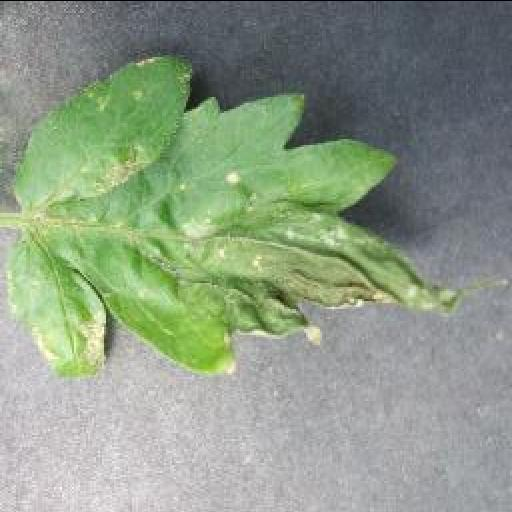disease_tomato: (0, 50, 460, 382)
